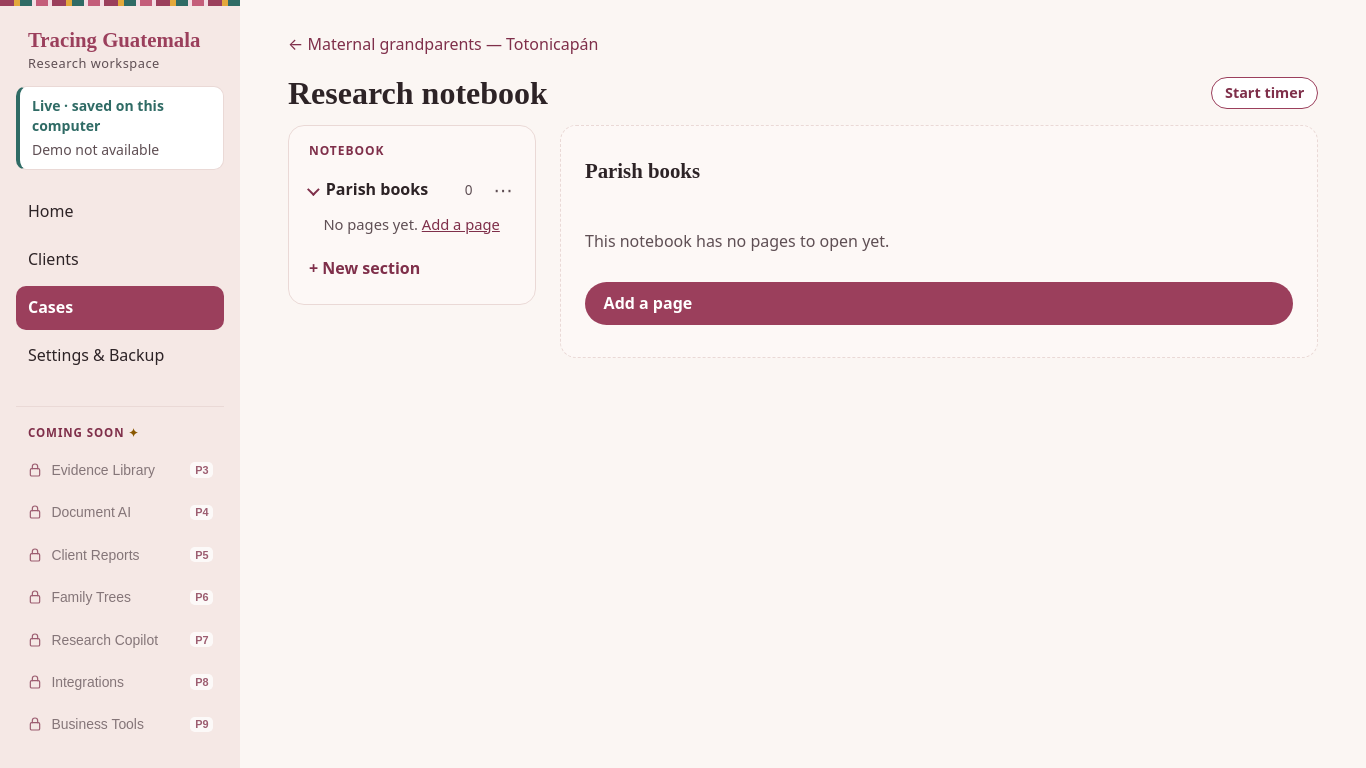
Test: starting and opening › offers "Add a page" for an empty section
This screenshot has width=1366, height=768.
Click the button "Add a page" below "This notebook has no pages to open yet.". click: point(648, 303)
box: [585, 282, 1293, 325]
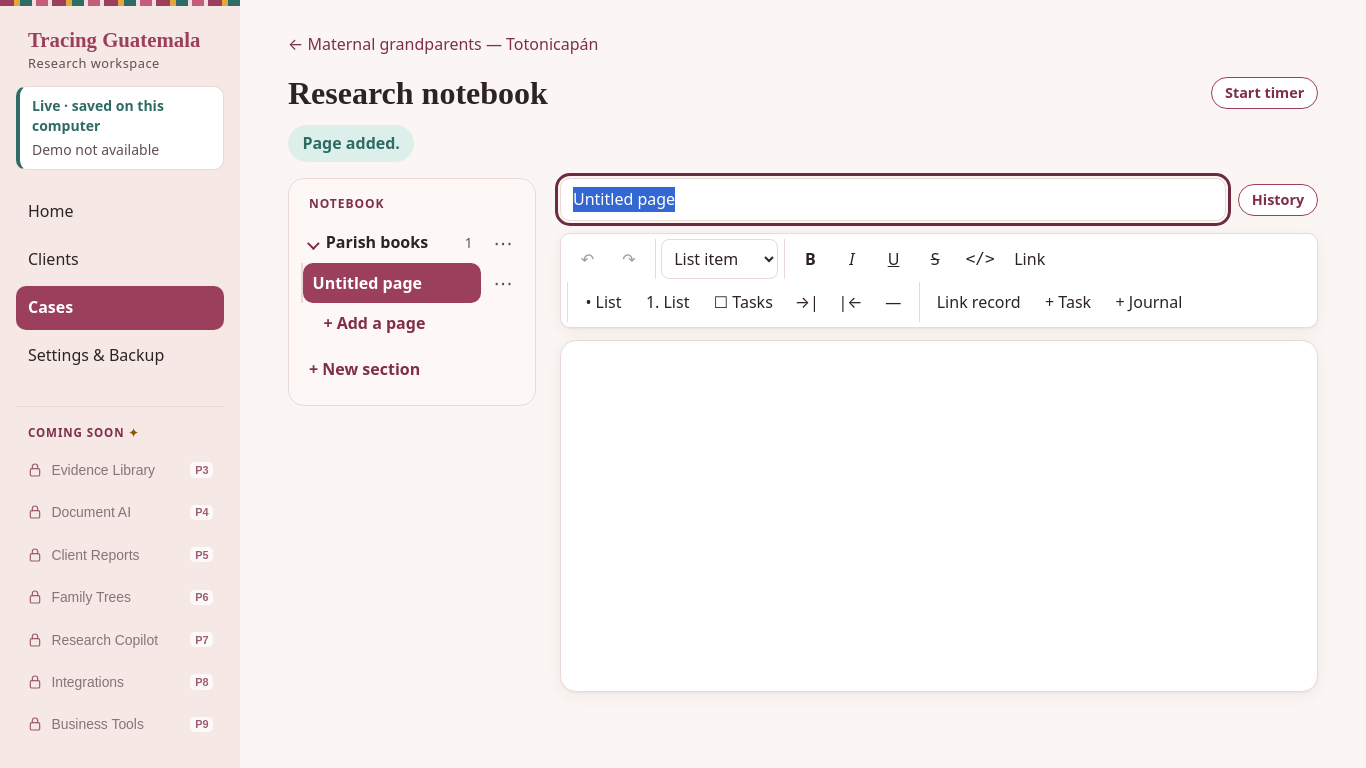
Expected: the link "Untitled page" is shown, [303, 263, 481, 303]
